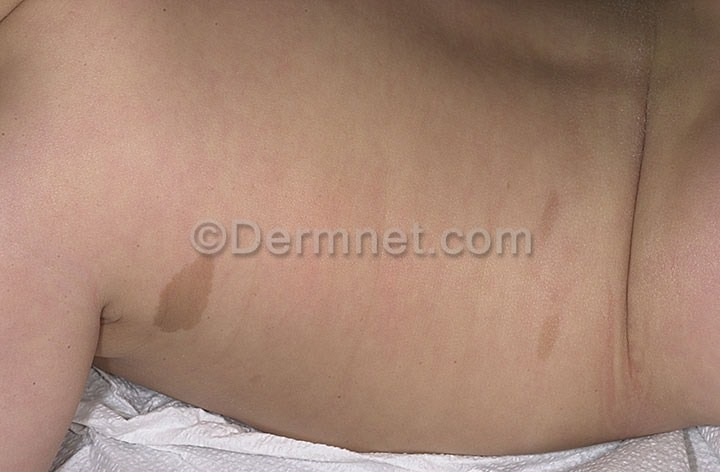Melasma: (132, 252, 263, 355), (536, 186, 573, 382)
